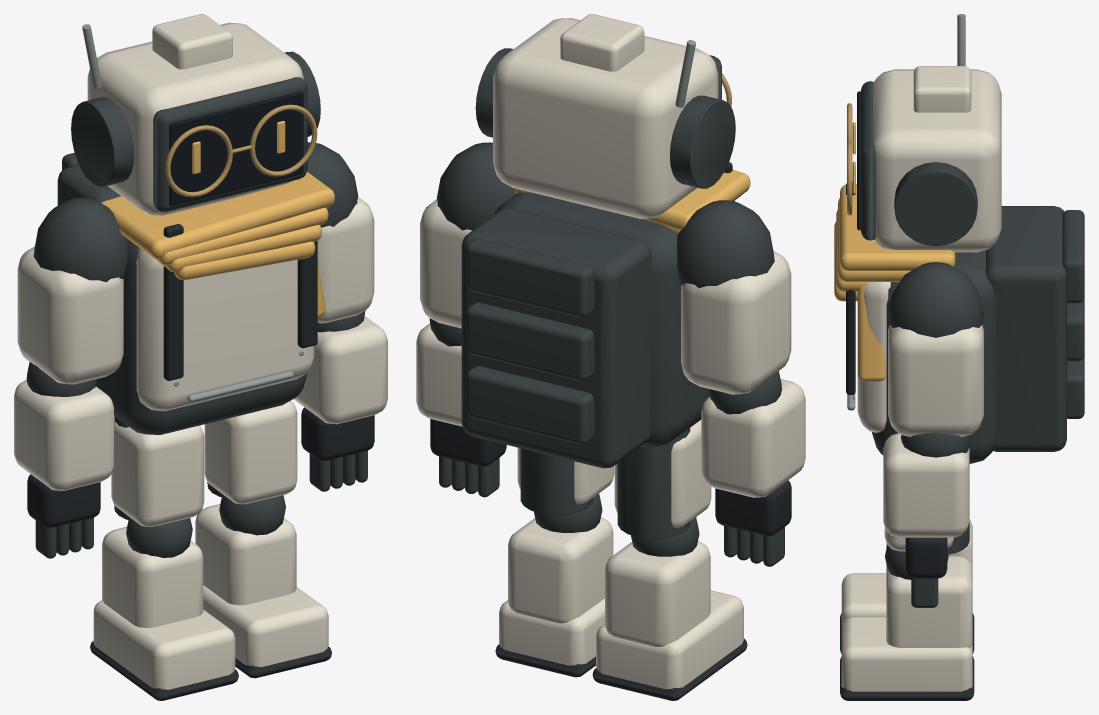
The model's file is NPC_Bobby.fbx.
3 views of the same model, side by side, from view 1: azimuth 30°, elevation 25°; view 2: azimuth 150°, elevation 25°; view 3: azimuth 270°, elevation 25° (orthographic). The views are drawn at different scales.
Parts seen in each view (by area): view 1: NPC_Bobby_BobbyBody, NPC_Bobby_BobbyHead, NPC_Bobby_BobbyLeftArm, NPC_Bobby_BobbyRightArm; view 2: NPC_Bobby_BobbyBody, NPC_Bobby_BobbyHead, NPC_Bobby_BobbyLeftArm, NPC_Bobby_BobbyRightArm; view 3: NPC_Bobby_BobbyBody, NPC_Bobby_BobbyHead, NPC_Bobby_BobbyRightArm.
Boxes of the visible parts, x1,y1,x2,y2 form: NPC_Bobby_BobbyBody: (57, 152, 334, 700); NPC_Bobby_BobbyHead: (71, 14, 320, 215); NPC_Bobby_BobbyLeftArm: (14, 197, 127, 558); NPC_Bobby_BobbyRightArm: (294, 142, 387, 491); NPC_Bobby_BobbyBody: (461, 162, 750, 700); NPC_Bobby_BobbyHead: (475, 14, 735, 218); NPC_Bobby_BobbyLeftArm: (677, 200, 805, 566); NPC_Bobby_BobbyRightArm: (416, 142, 515, 497); NPC_Bobby_BobbyBody: (834, 182, 1084, 700); NPC_Bobby_BobbyHead: (847, 14, 1001, 252); NPC_Bobby_BobbyRightArm: (883, 262, 983, 607).
Size of the model in its own units: 1.17 by 2.08 by 0.783.
